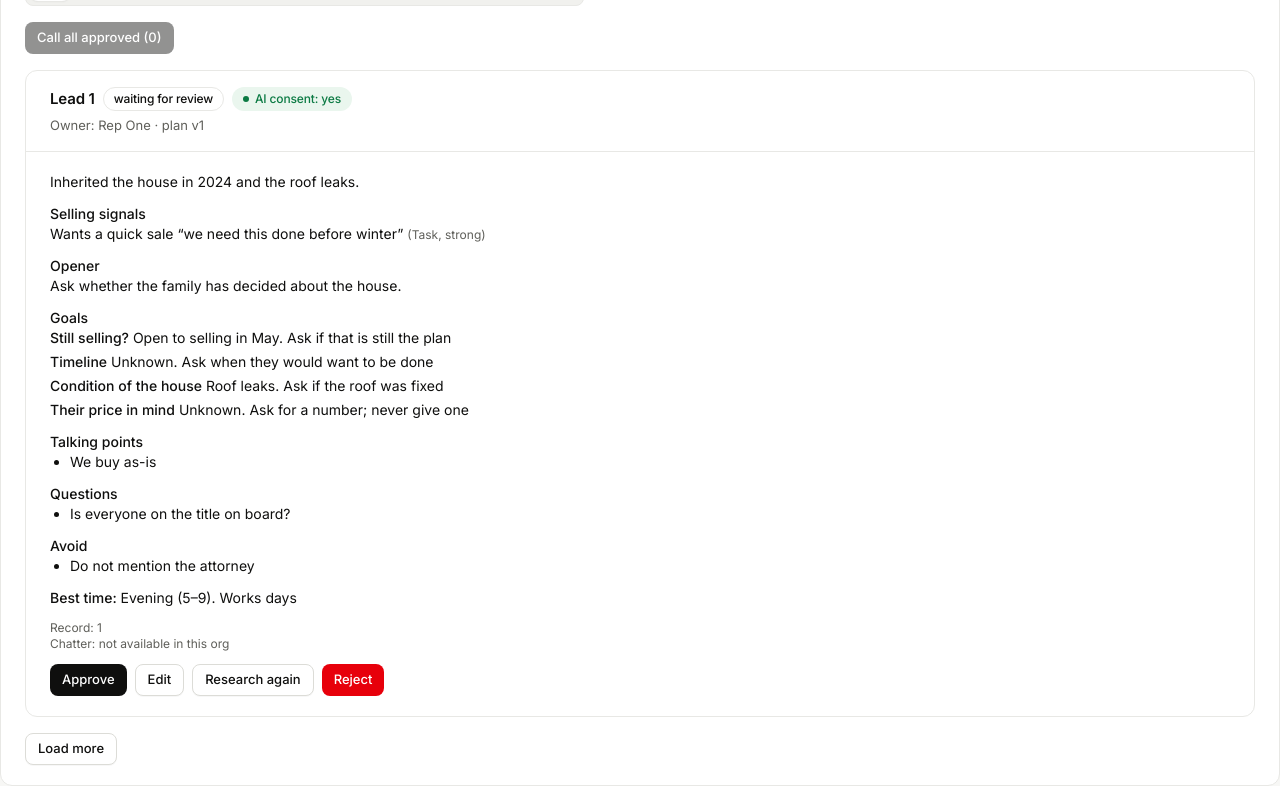
Test case: CallPlanBoard › a stage filter reads that stage; Load more reads the next page
(page scrolled)
Expected: the link "Lead 1" is shown, x1=50 y1=87 x2=95 y2=111
Click the button "Load more" at (71, 749), box x1=25 y1=733 x2=117 y2=765
(page scrolled)
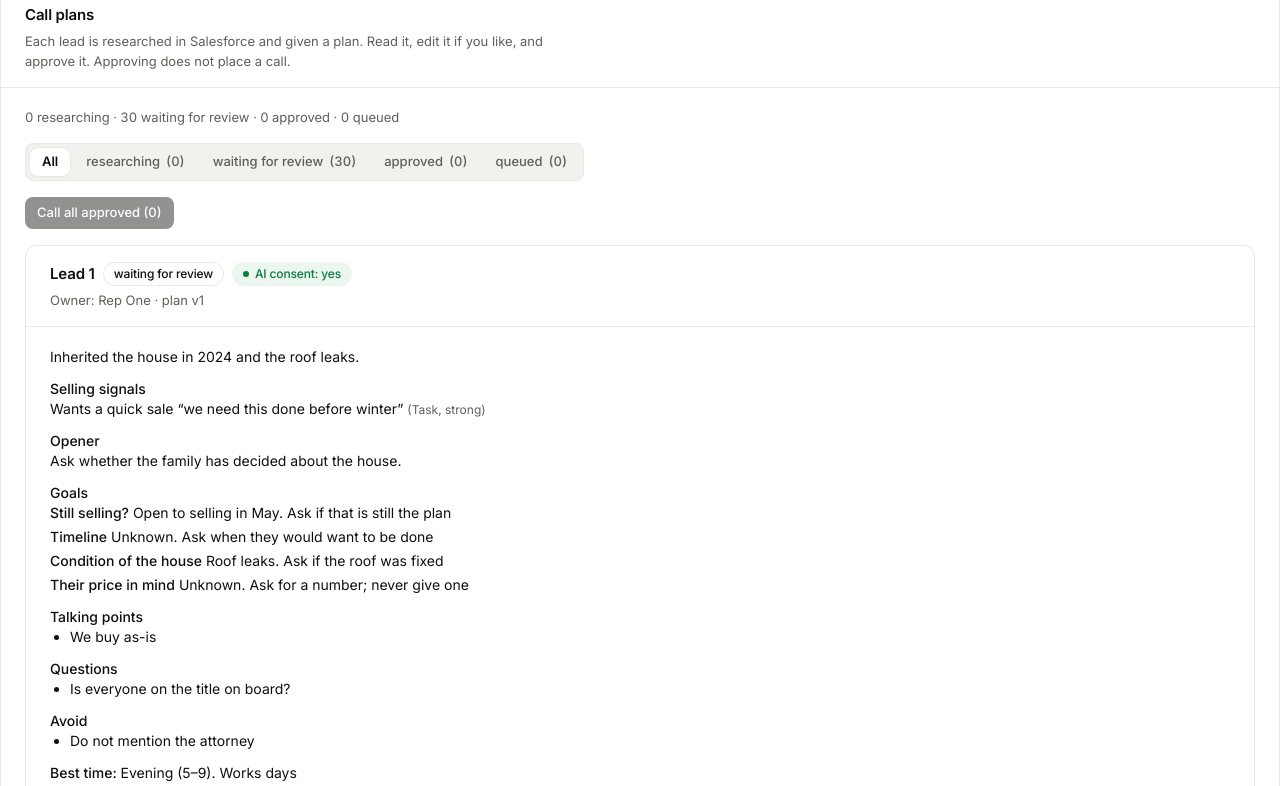
Click the button "approved (0)" at (426, 162), box x1=372 y1=148 x2=480 y2=176
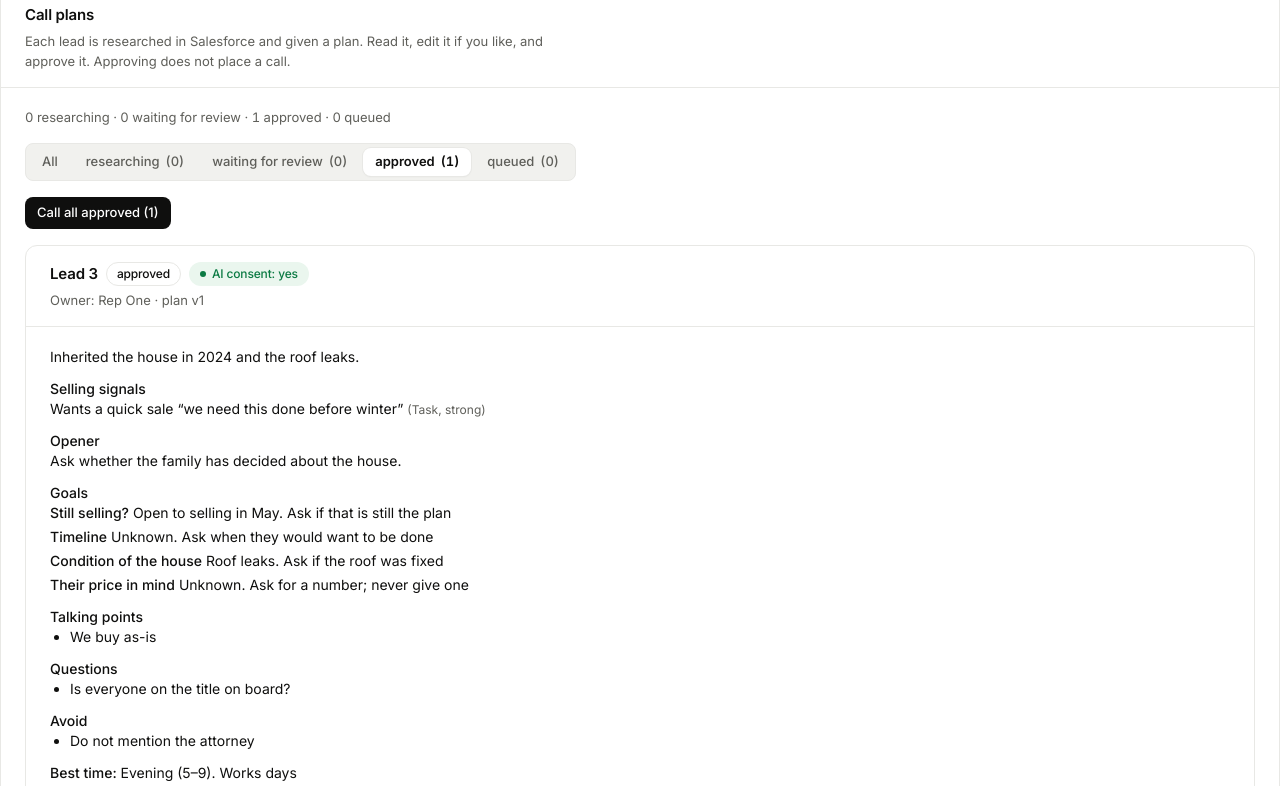
Expected: the link "Lead 3" is shown, x1=50 y1=262 x2=98 y2=286
